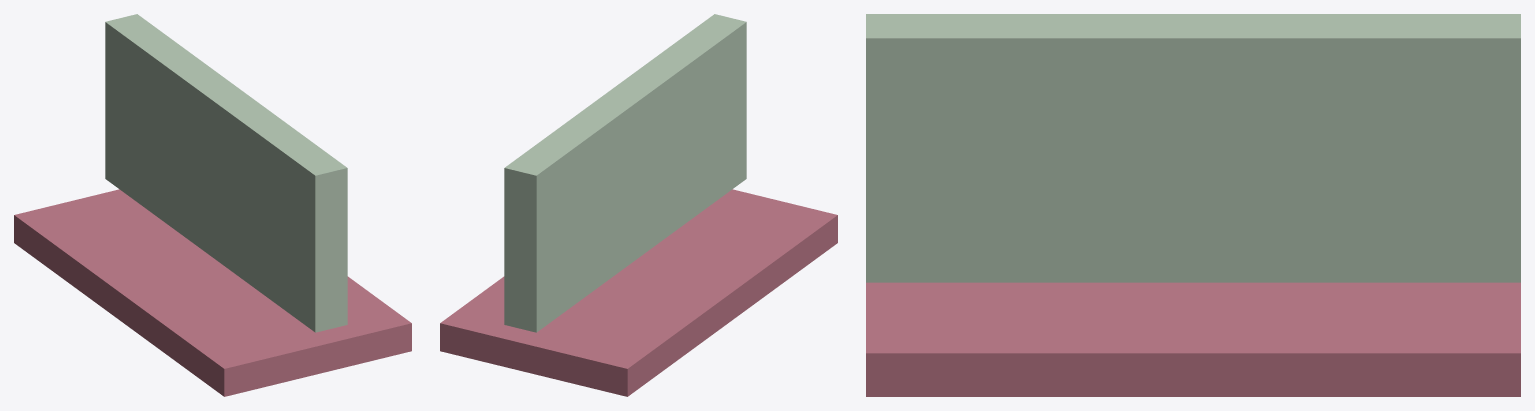
File: 199501_pred.glb
3 views of the same model, side by side, from view 1: azimuth 30°, elevation 25°; view 2: azimuth 150°, elevation 25°; view 3: azimuth 270°, elevation 25° (orthographic). The views are drawn at different scales.
Parts seen in each view (by area): view 1: world; view 2: world; view 3: world.
Boxes of the visible parts, x1=… form: world: x1=14, y1=14, x2=411, y2=396; world: x1=440, y1=14, x2=837, y2=396; world: x1=866, y1=14, x2=1520, y2=396.
Size of the model in its own units: 3.5 by 3.55 by 6.8.
